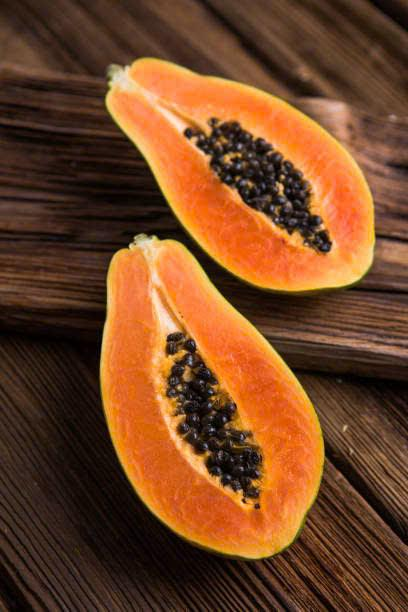papaya: (90, 232, 339, 581), (98, 46, 402, 294)
